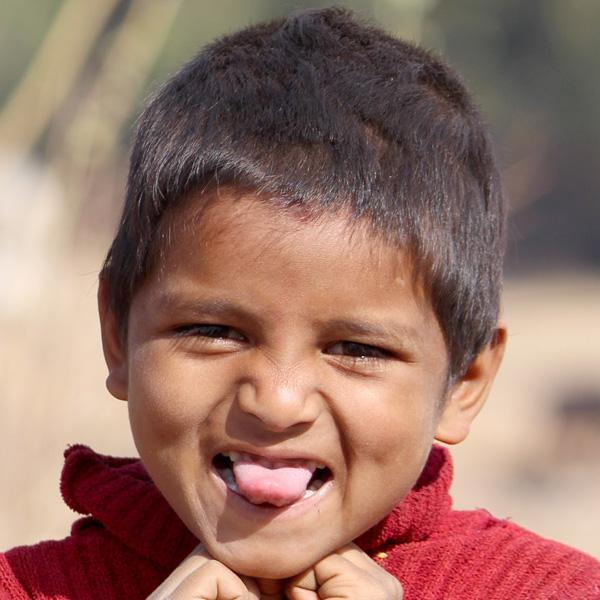Eyes: (159, 309, 257, 359), (314, 328, 409, 376)
